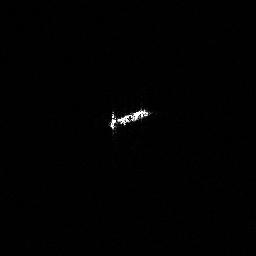ship: (104, 103, 154, 135)
